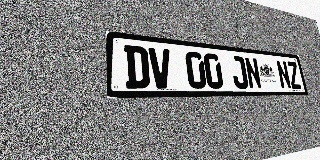0: (185, 51, 207, 89), (203, 53, 224, 89)
D: (124, 45, 150, 89)
J: (230, 55, 249, 89)
N: (244, 57, 262, 89), (275, 60, 292, 89)
V: (148, 47, 173, 89)
Z: (286, 61, 302, 89)
